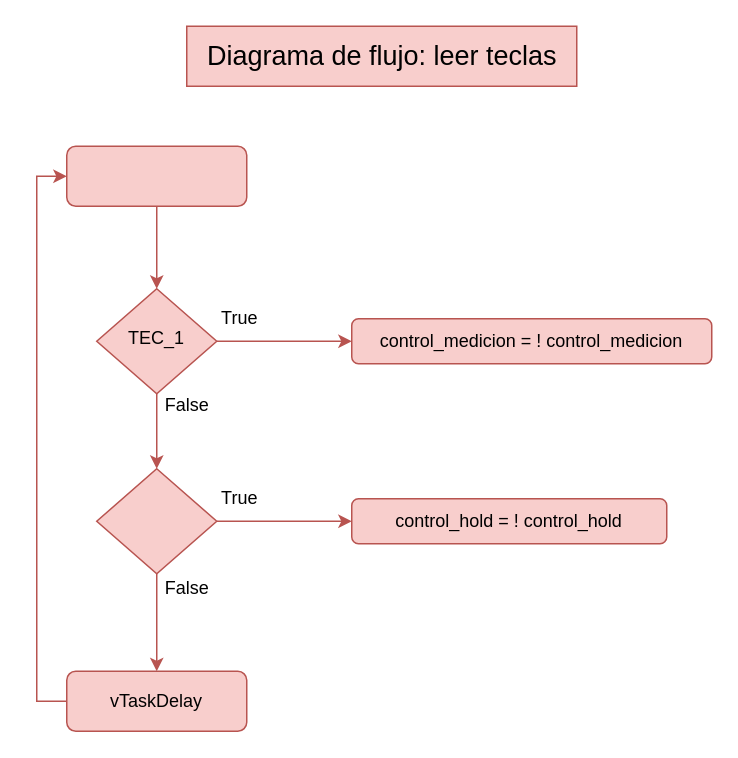
The diagram is 738 pixels wide and 758 high, and some of its shapes have lost their labels. The centre of each missing label's shape, as x and y in pixels:
"Leer teclas" belongs at [156,175].
"TEC_2" belongs at [156,520].
